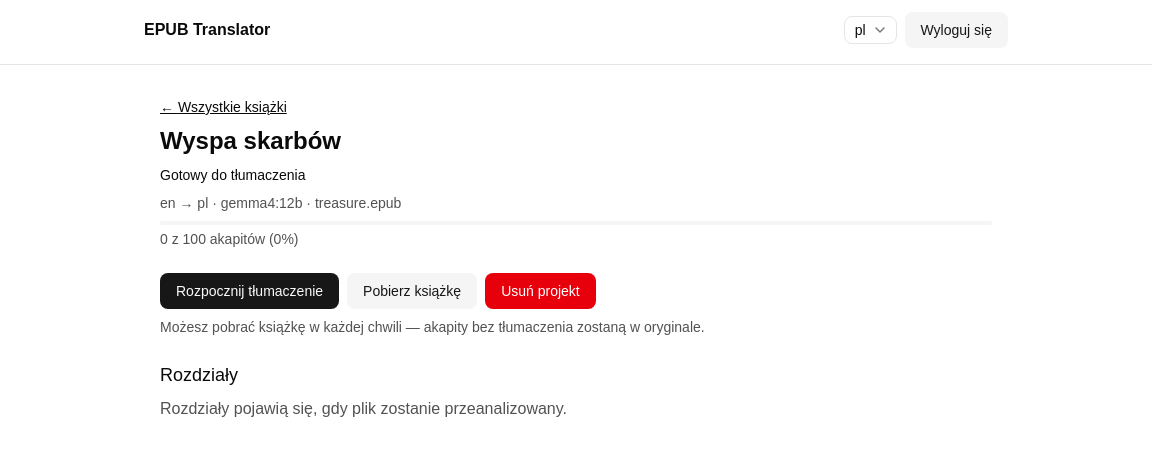
Test: ProjectDetailPage › shows the conflict the server reported
The image size is (1152, 462).
Click the button "Rozpocznij tłumaczenie". click: (250, 291)
box: [160,273,339,309]
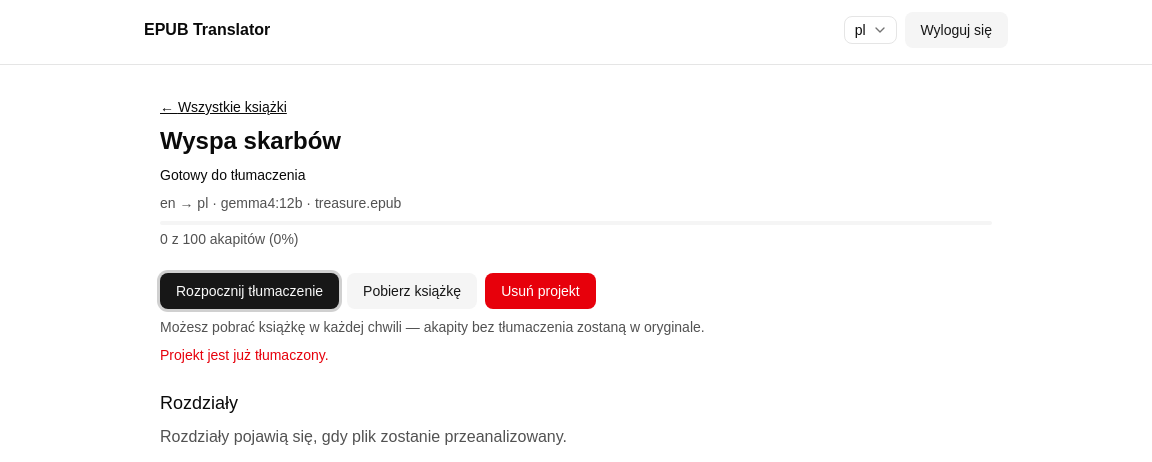
Result: the text "Projekt jest już tłumaczony." is shown at [160,347,329,363]
